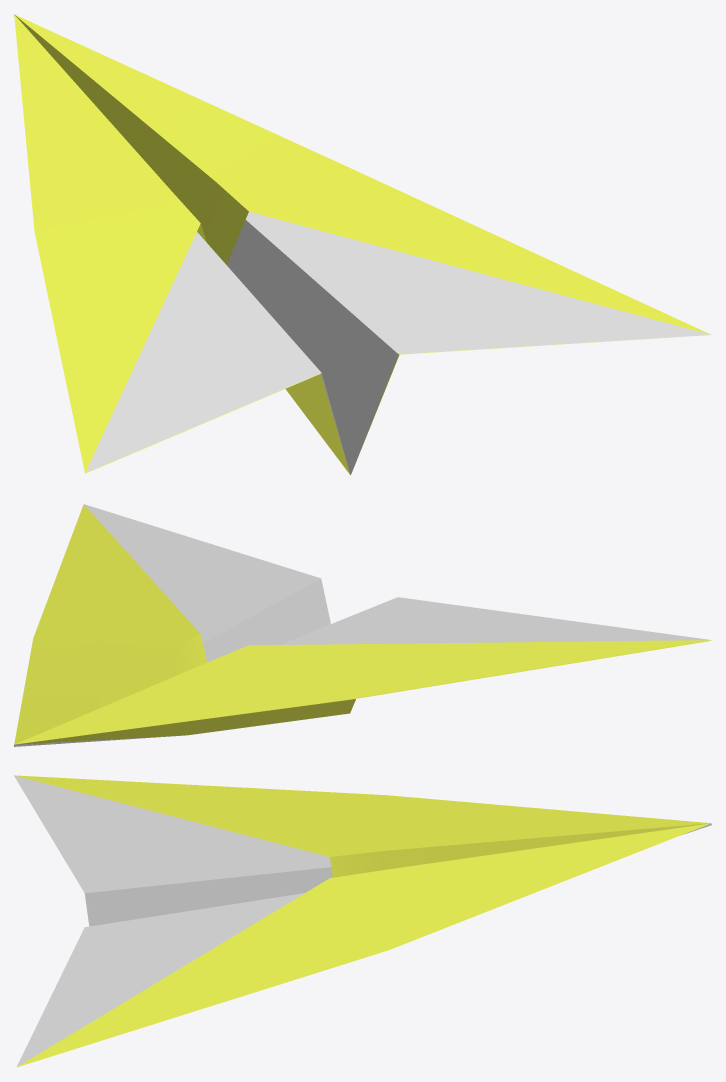
Rendered from paper_plane_ghost.glb.
The picture shows the model from 3 angles, top to bottom: view 1: azimuth 30°, elevation 25°; view 2: azimuth 150°, elevation 25°; view 3: azimuth 270°, elevation 25°; orthographic projection. The views are drawn at different scales.
Parts seen in each view (by area): view 1: PaperAirplane.001; view 2: PaperAirplane.001; view 3: PaperAirplane.001.
Part boxes in pixels (<box>): PaperAirplane.001: <box>14,14,711,475</box>; PaperAirplane.001: <box>14,504,711,746</box>; PaperAirplane.001: <box>14,775,711,1067</box>.
Size of the model in its own units: 1.5 by 0.4909 by 1.59.
